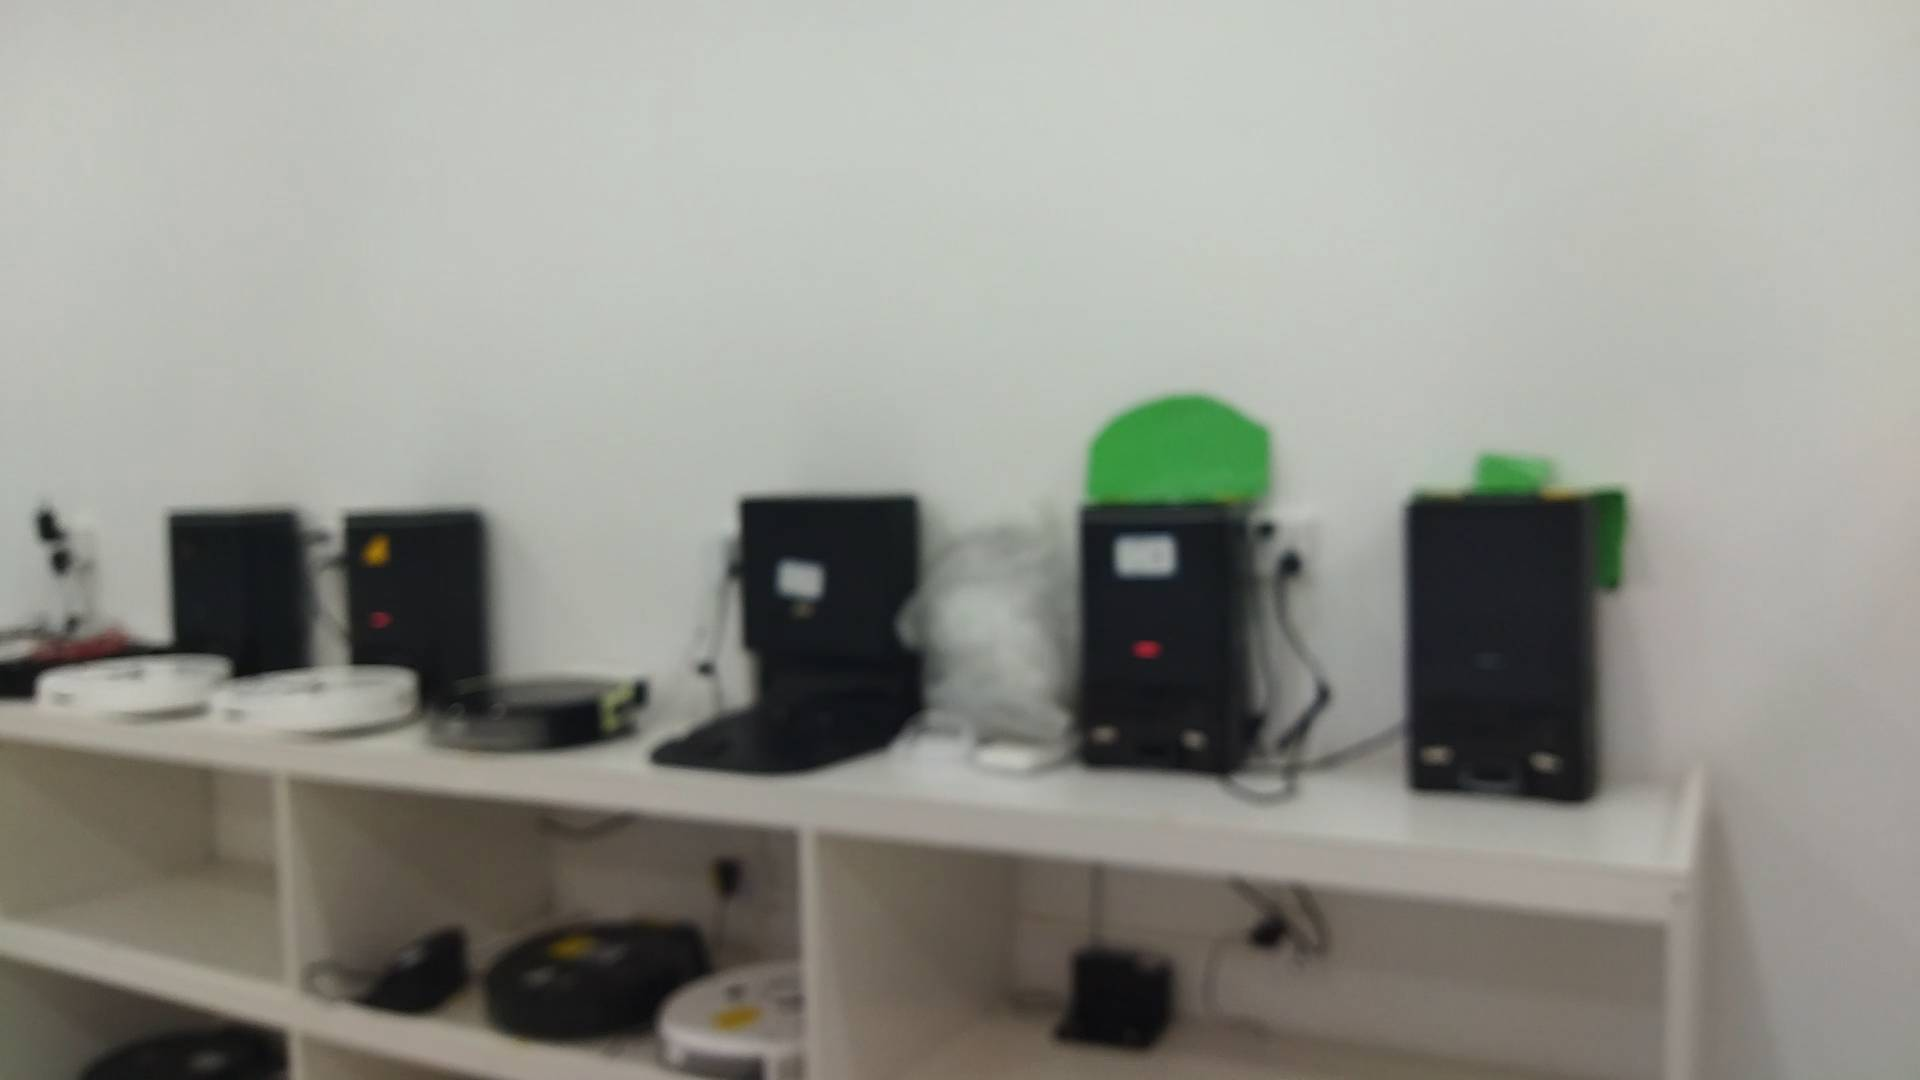dust collecting barrel: (647, 497, 926, 777), (1404, 495, 1600, 804), (1083, 500, 1247, 775), (342, 509, 489, 694), (165, 509, 305, 678)
recharge seat: (1050, 944, 1178, 1052)
